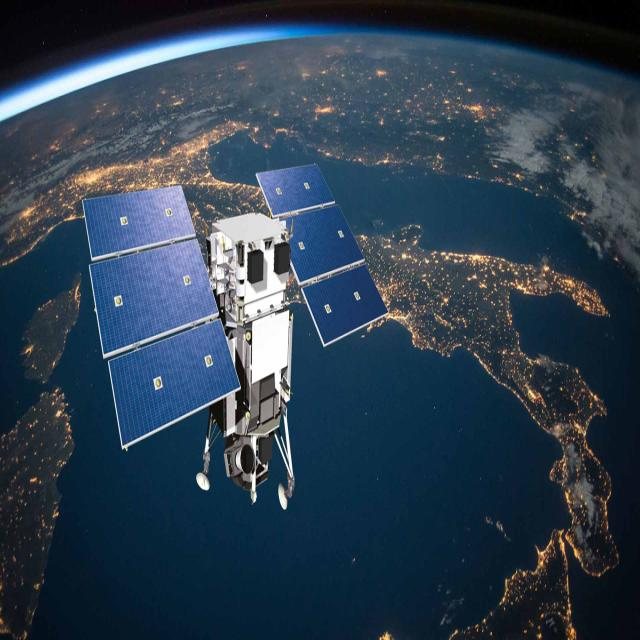satellite: (68, 143, 411, 525)
